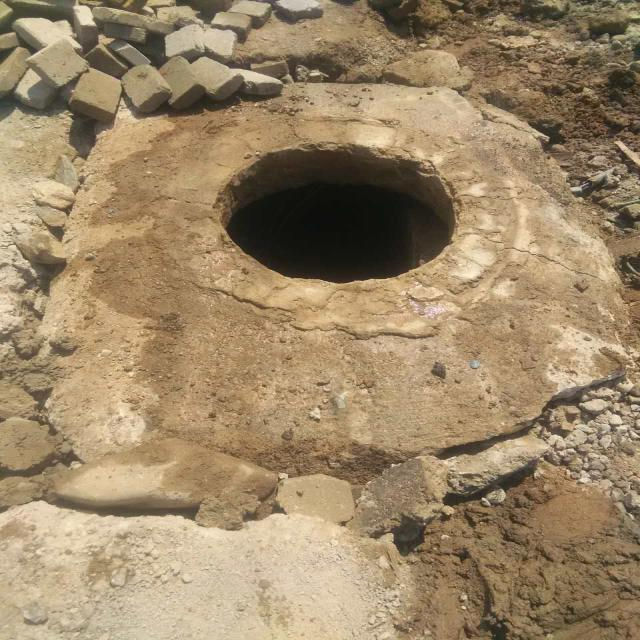Uncovered: (214, 141, 463, 285)
